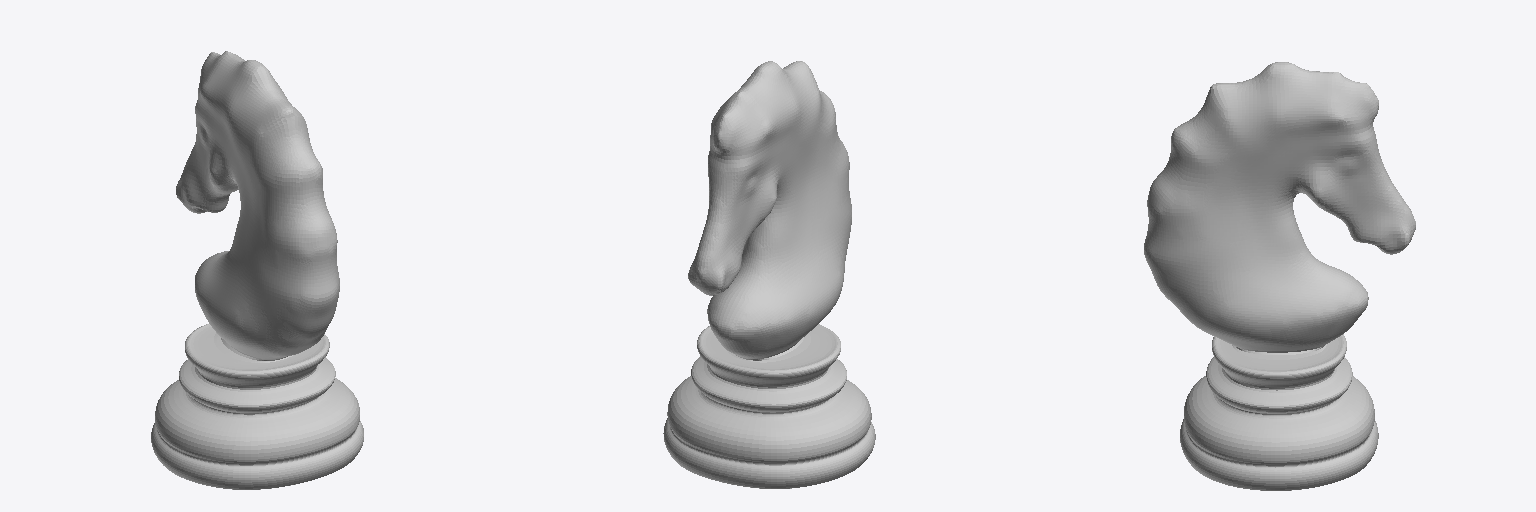
The model's file is Knight.obj.
3 renders of one model, left to right at view 1: azimuth 30°, elevation 25°; view 2: azimuth 150°, elevation 25°; view 3: azimuth 270°, elevation 25°, orthographic.
Parts seen in each view (by area): view 1: Cube.005_Cube.006; view 2: Cube.005_Cube.006; view 3: Cube.005_Cube.006.
Part boxes in pixels (bbox=[...]): Cube.005_Cube.006: bbox=[151, 51, 363, 489]; Cube.005_Cube.006: bbox=[663, 61, 875, 488]; Cube.005_Cube.006: bbox=[1144, 62, 1415, 490].
Size of the model in its own units: 4.17 by 8.25 by 5.28.